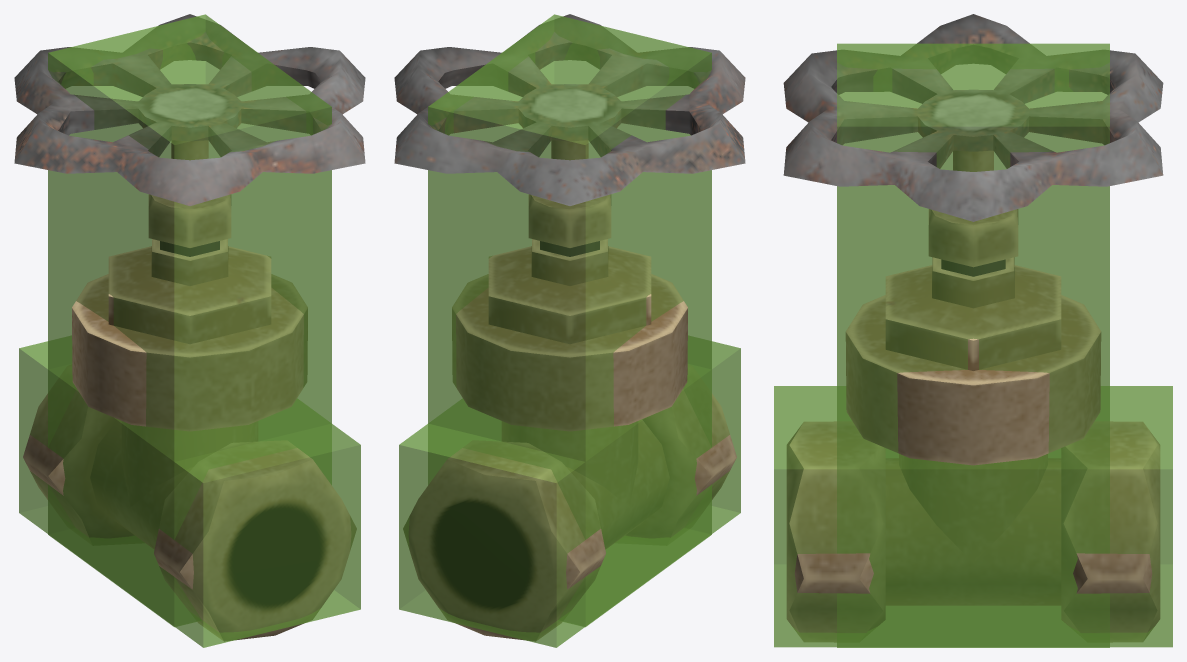
Rendered from p_PipeValve_01_a.fbx.
The picture shows the model from 3 angles, left to right: view 1: azimuth 30°, elevation 25°; view 2: azimuth 150°, elevation 25°; view 3: azimuth 270°, elevation 25°; orthographic projection. The views are drawn at different scales.
Parts seen in each view (by area): view 1: p_PipeValve_01_a_col_01, p_PipeValve_01_a_LOD0; view 2: p_PipeValve_01_a_col_01, p_PipeValve_01_a_LOD0; view 3: p_PipeValve_01_a_col_01, p_PipeValve_01_a_LOD0.
Part boxes in pixels (<box>): p_PipeValve_01_a_col_01: <box>19,14,360,647</box>; p_PipeValve_01_a_LOD0: <box>14,14,365,641</box>; p_PipeValve_01_a_col_01: <box>399,14,740,647</box>; p_PipeValve_01_a_LOD0: <box>394,14,745,641</box>; p_PipeValve_01_a_col_01: <box>774,43,1172,647</box>; p_PipeValve_01_a_LOD0: <box>783,14,1163,642</box>.
Size of what is drawn, in the model's own units: 7.87 by 10.58 by 7.16.
